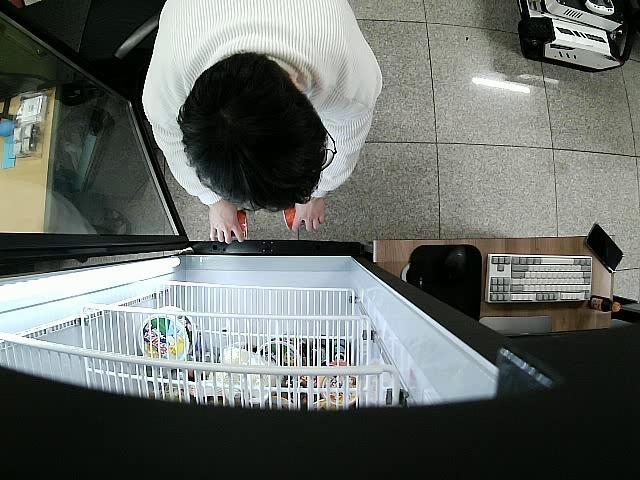02_shinRamen_S: (217, 210, 250, 238), (280, 208, 306, 232)
